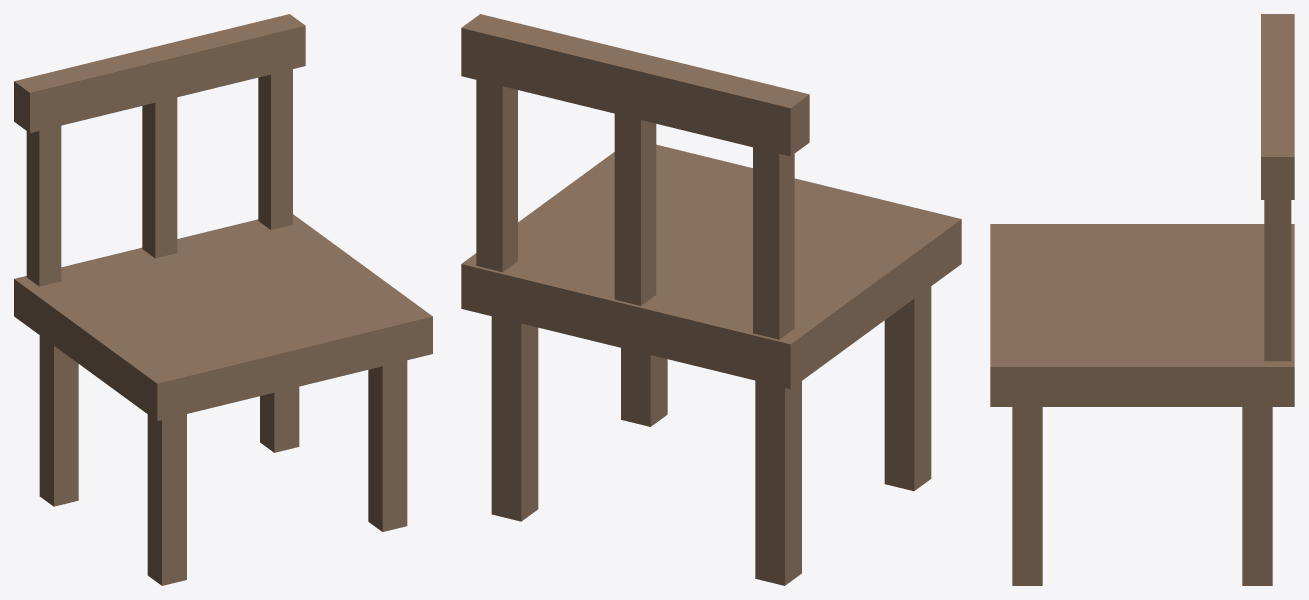
Rendered from chair.glb.
3 views of the same model, side by side, from view 1: azimuth 30°, elevation 25°; view 2: azimuth 150°, elevation 25°; view 3: azimuth 270°, elevation 25° (orthographic). The views are drawn at different scales.
Bounding box in the file's own units: 1 × 1.42 × 0.9.
